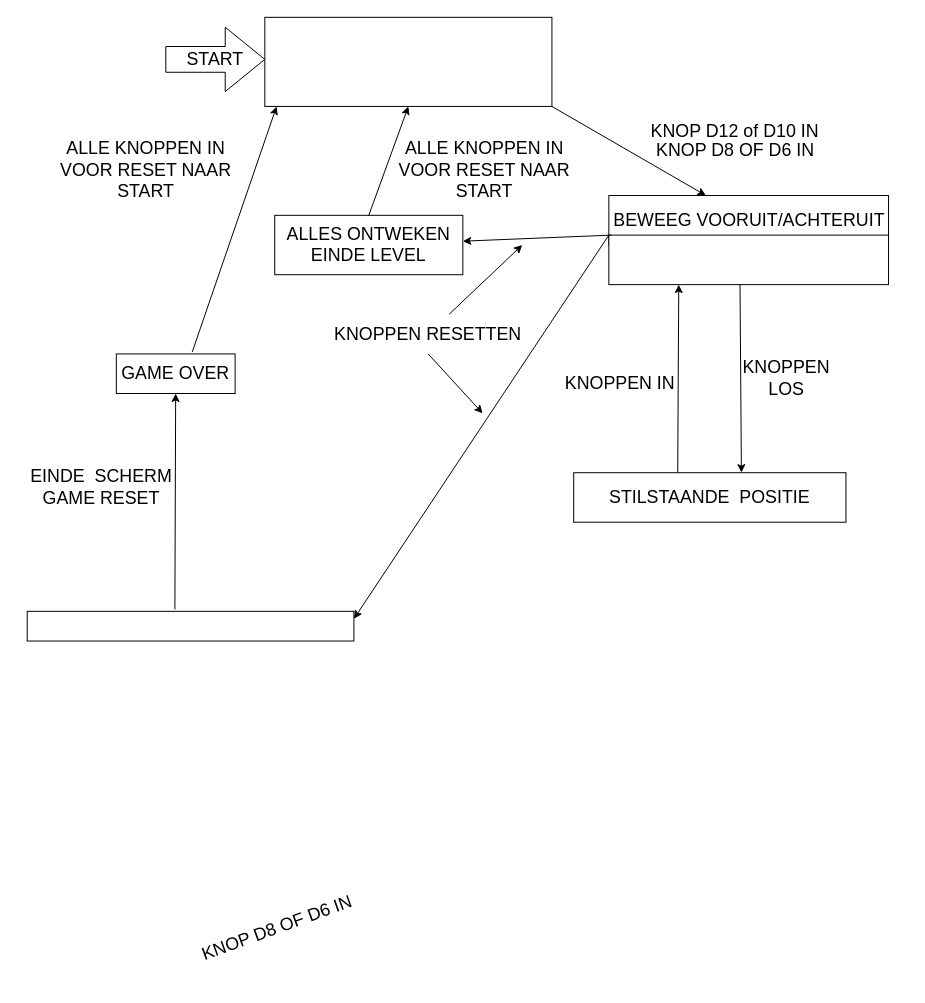
This 925x1003 diagram has some shape labels left out. The centre of each missing label's shape, as x and y in pixels:
BEWEEG OMHOOG/OMLAAG: point (748, 259)
BLIJF STAAN OP POSITIE. KNOPPEN LOS.: point (408, 61)
GERAAKT DOOR VOORWERP: point (190, 625)
